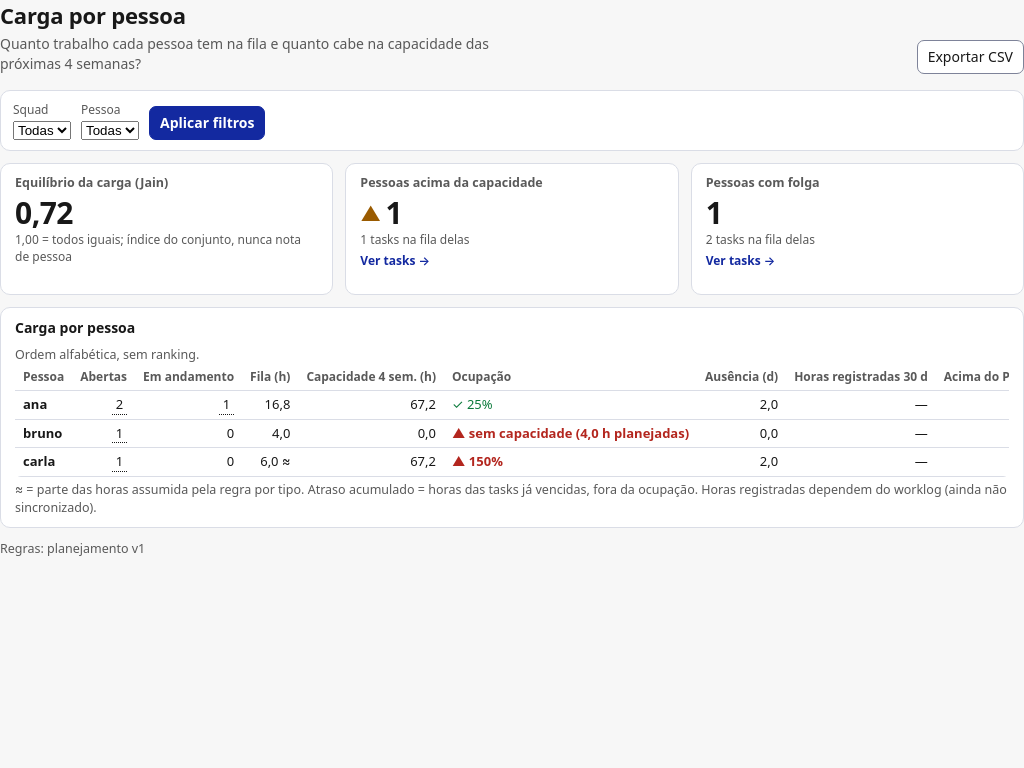
Test: tela Carga por pessoa › numeroDaTabelaAbreGavetaDaPessoa
Click the button named "ana Abertas: 2": (119, 405) [112, 395, 127, 414]
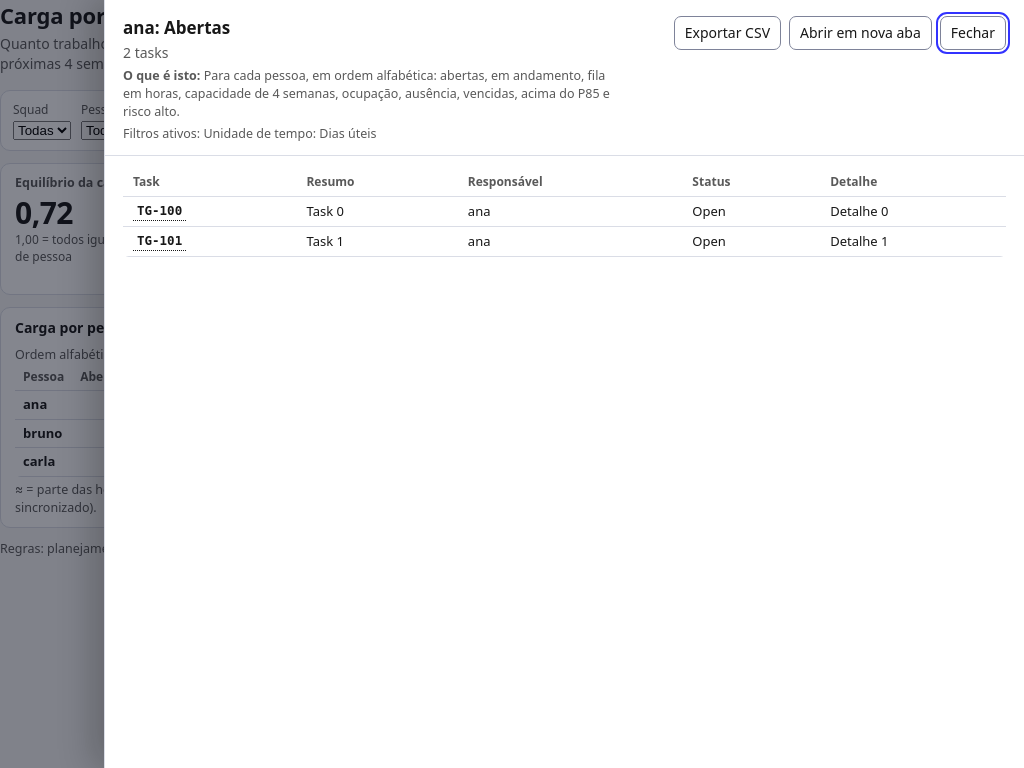
Check: the text "2 tasks" is shown, box [123, 43, 168, 62]
